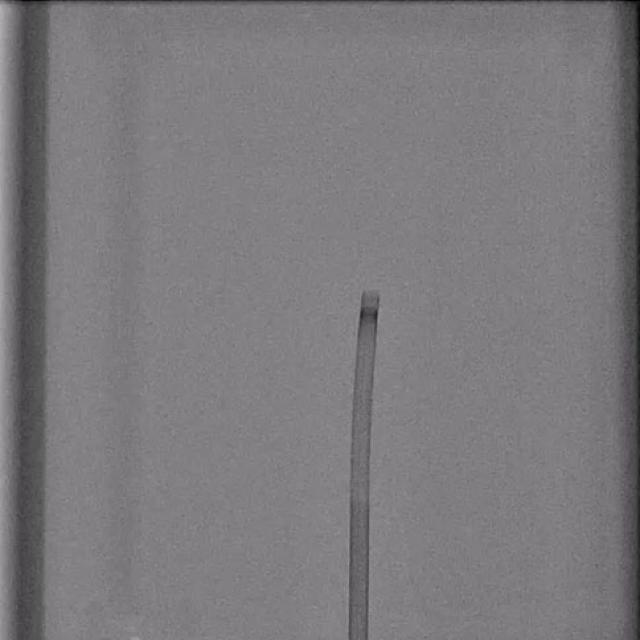bend: (349, 488, 370, 503)
entry: (349, 634, 368, 640)
marker: (359, 308, 378, 322)
tip: (364, 290, 381, 298)
